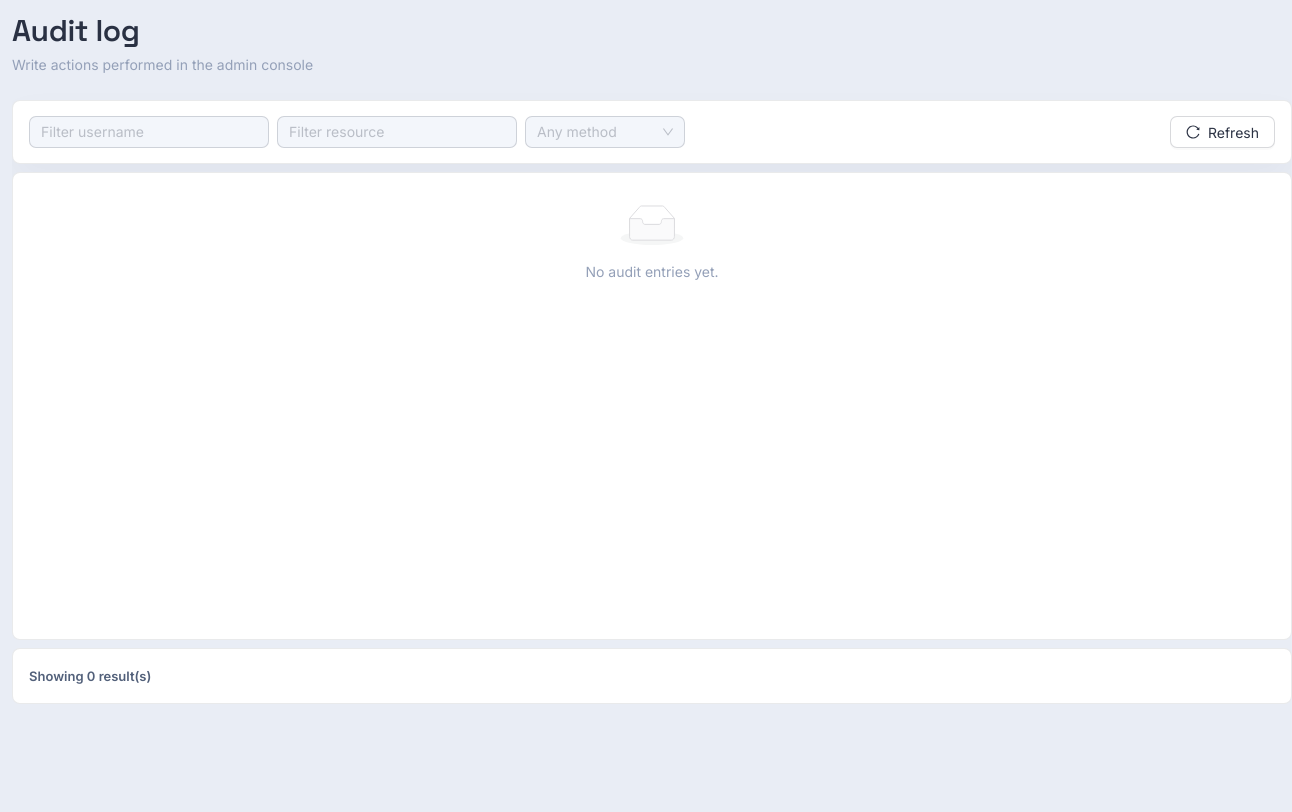
Test: AuditLog › shows the filtered empty state
Expected: the text "No audit entries yet." is shown, [585, 263, 719, 280]
Type "missing" into the field labelled "Filter username" at (141, 132), box [41, 121, 241, 143]
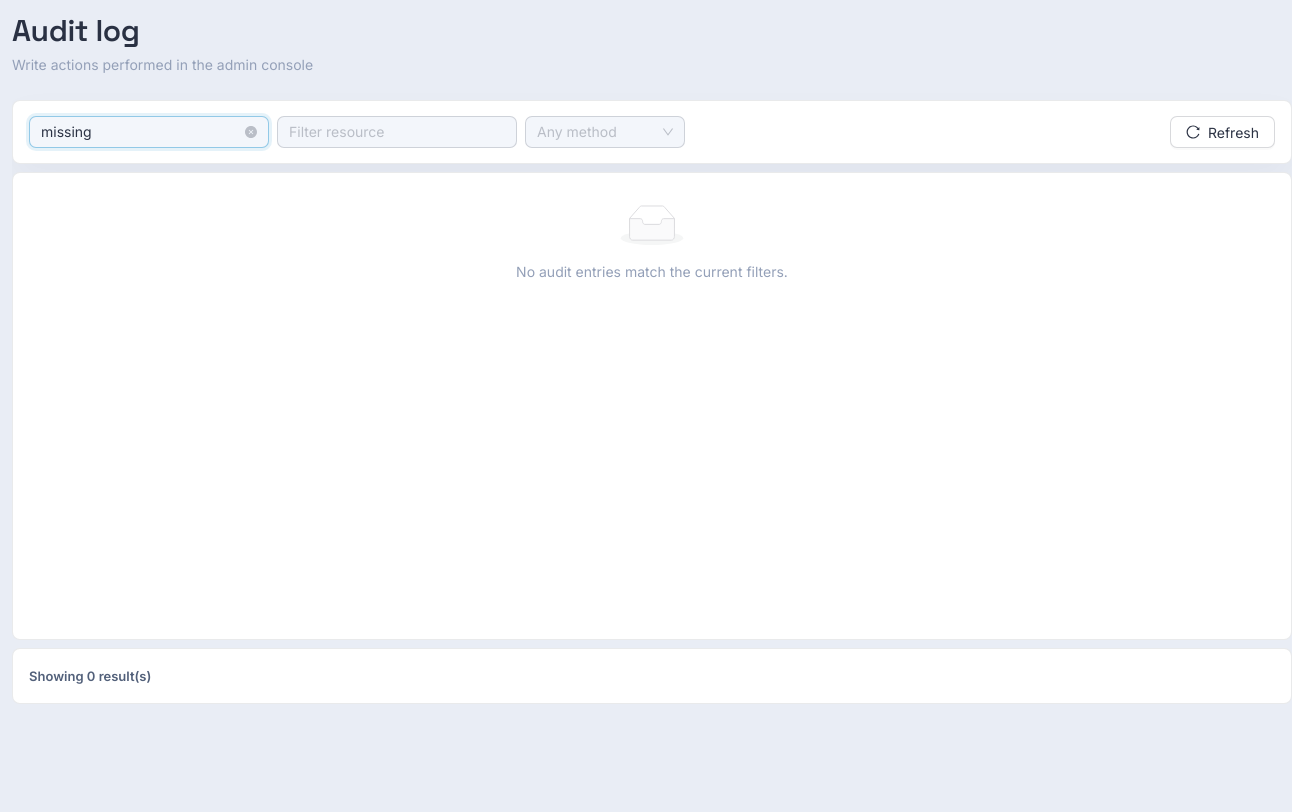
Now the text "No audit entries match the current filters." is shown, box [516, 263, 788, 280]
